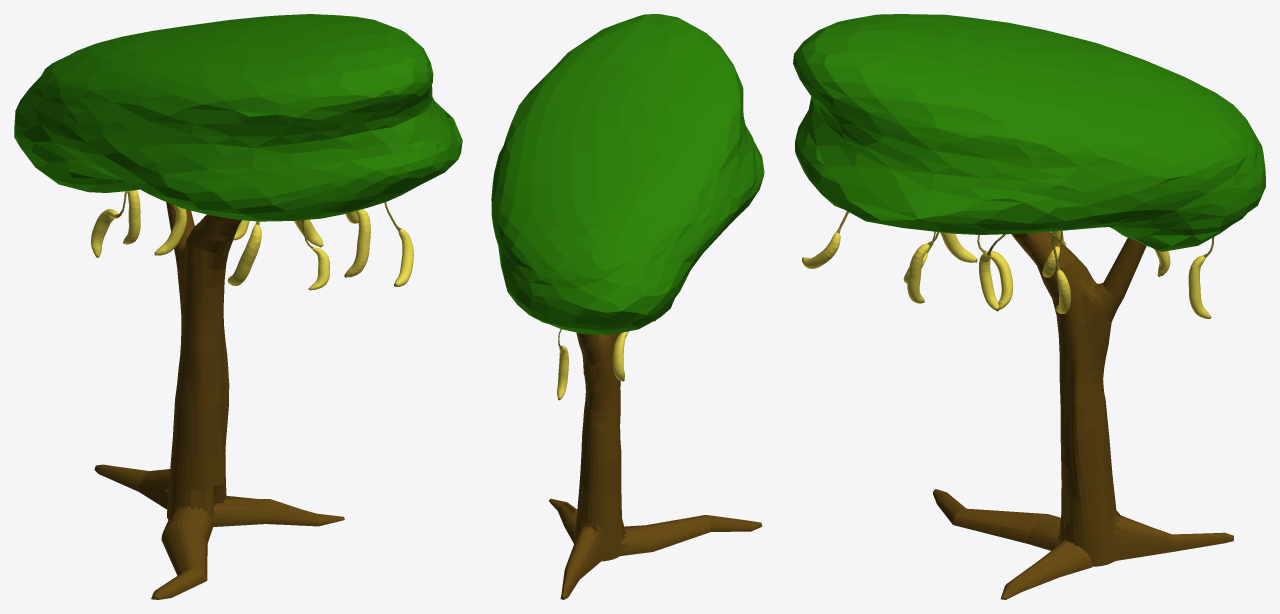
File: tree with bananas.fbx
3 views of the same model, side by side, from view 1: azimuth 30°, elevation 25°; view 2: azimuth 150°, elevation 25°; view 3: azimuth 270°, elevation 25° (orthographic). The views are drawn at different scales.
Parts seen in each view (by area): view 1: Icosphere.011, Cylinder.035, Cylinder.026, Cylinder.031, Cylinder.034, Cylinder.033, Cylinder.029, Cylinder.028, Cylinder.027; view 2: Icosphere.011, Cylinder.035, Cylinder.029, Cylinder.033; view 3: Icosphere.011, Cylinder.035, Cylinder.029, Cylinder.026, Cylinder.025, Cylinder.032, Cylinder.034.
Part boxes in pixels (x1,y1,x2,y2): Icosphere.011: (14,14,462,221); Cylinder.035: (94,202,344,599); Cylinder.026: (344,209,370,277); Cylinder.031: (227,221,261,285); Cylinder.034: (384,202,413,287); Cylinder.033: (91,190,127,257); Cylinder.029: (123,190,140,244); Cylinder.028: (154,205,186,255); Cylinder.027: (301,220,329,290); Icosphere.011: (491,14,764,334); Cylinder.035: (549,332,762,599); Cylinder.029: (557,329,568,400); Cylinder.033: (612,331,628,381); Icosphere.011: (793,14,1265,251); Cylinder.035: (933,231,1233,599); Cylinder.029: (1188,237,1214,318); Cylinder.026: (907,232,938,303); Cylinder.025: (979,234,1005,311); Cylinder.032: (977,235,1012,309); Cylinder.034: (802,211,848,268).
Size of the model in its own units: 1046 by 1792 by 1424.
